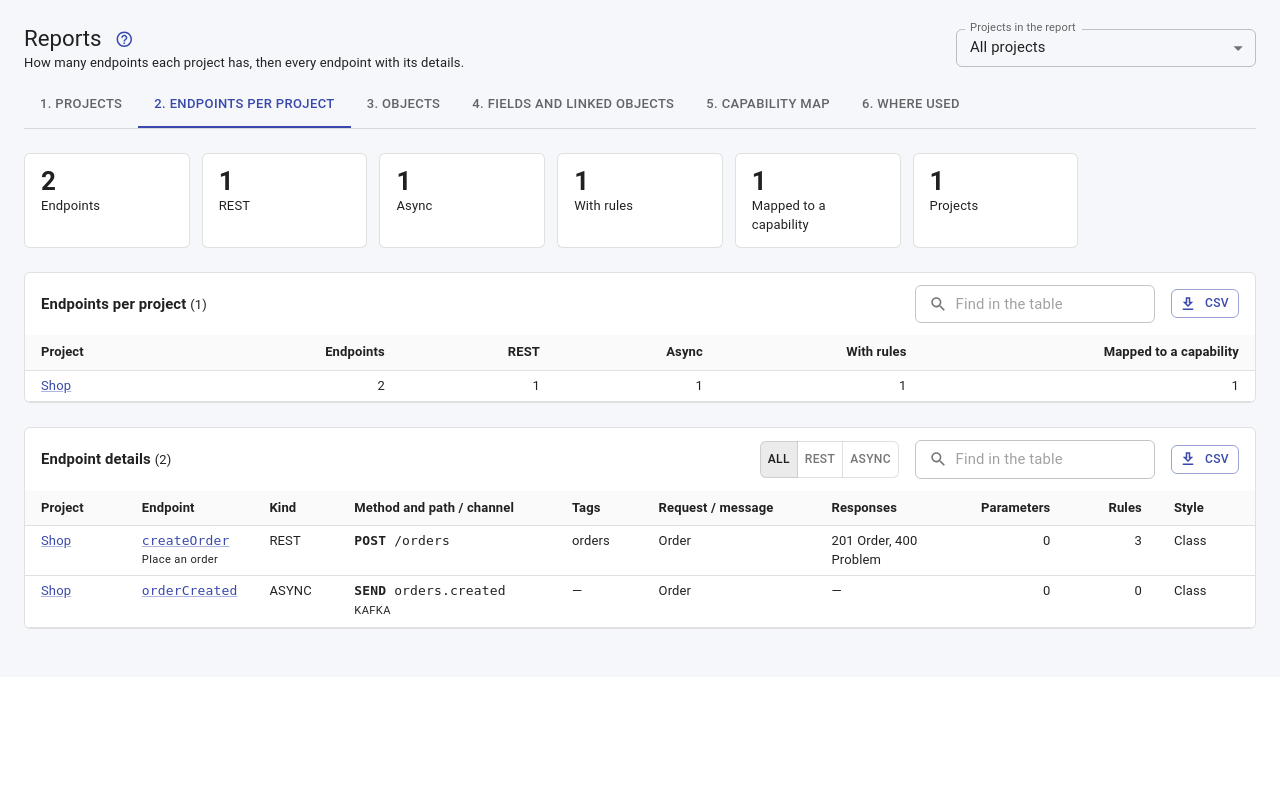
Test: Reports › 2. counts endpoints per project and filters the details by kind and words
Expected: the row "Shop 2 1 1 1 1" is shown, [25,370,1255,402]
Click the button "Async" in the row of "(2)". click: (870, 459)
box: [842,441,899,478]
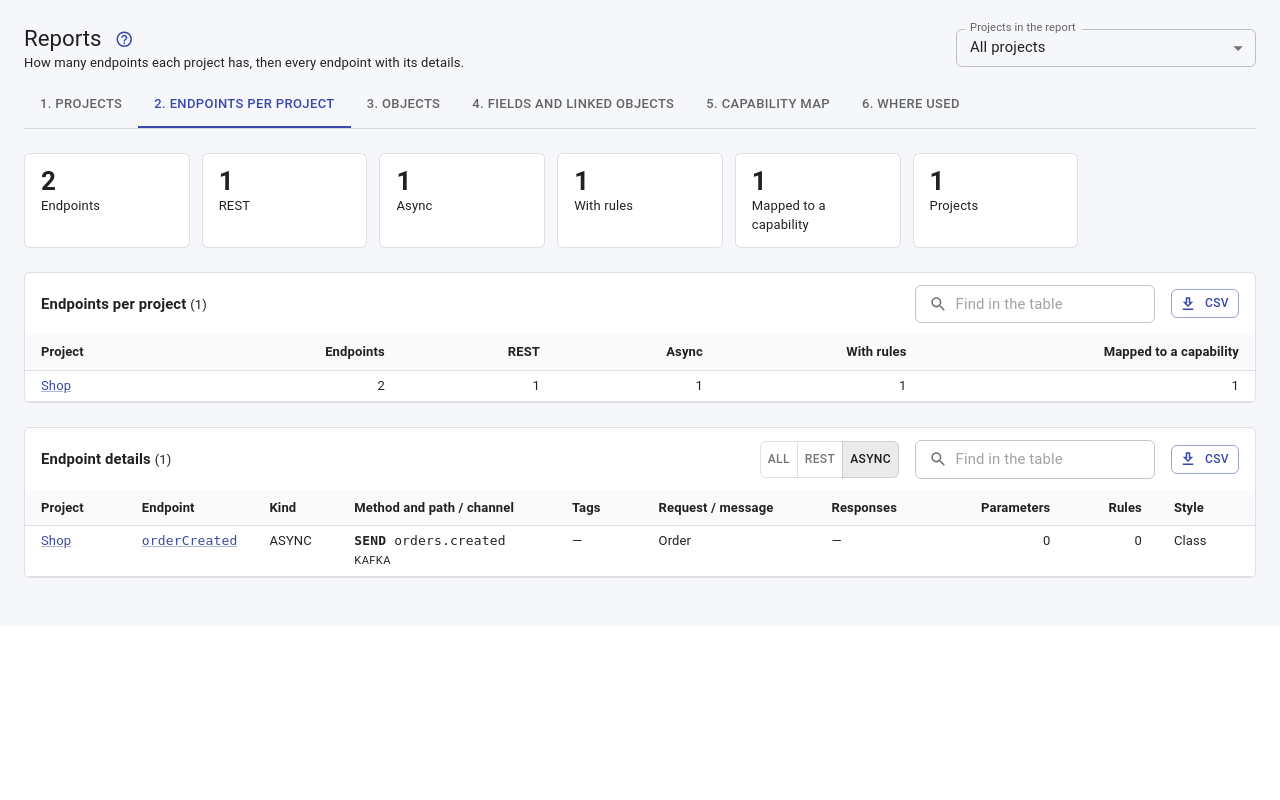
Click the button "All". click: (779, 459)
box: [760,441,798,478]
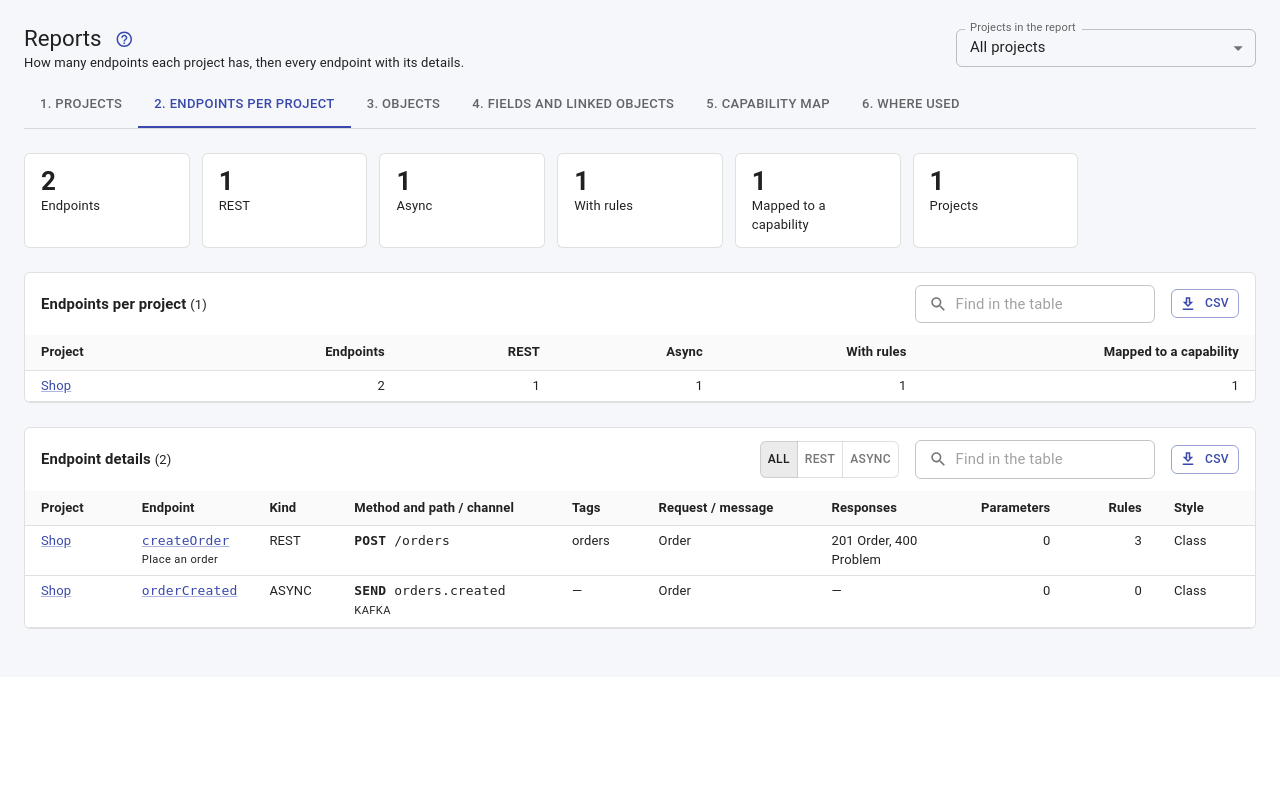
Type "orders.created" into the field named "Find in endpoint details". click: (1055, 459)
box: [956,440,1155,479]
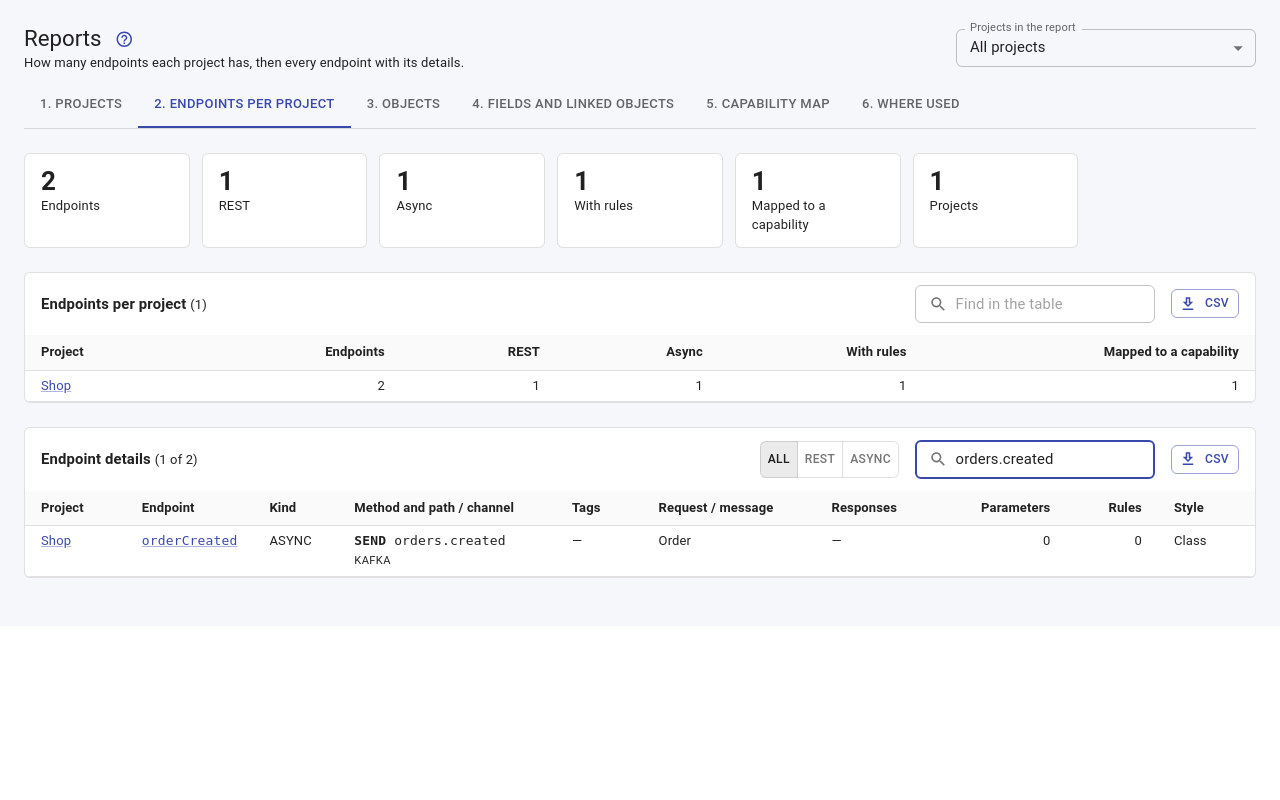
Result: the text "(1 of 2)" is shown at [155,452,198,467]
